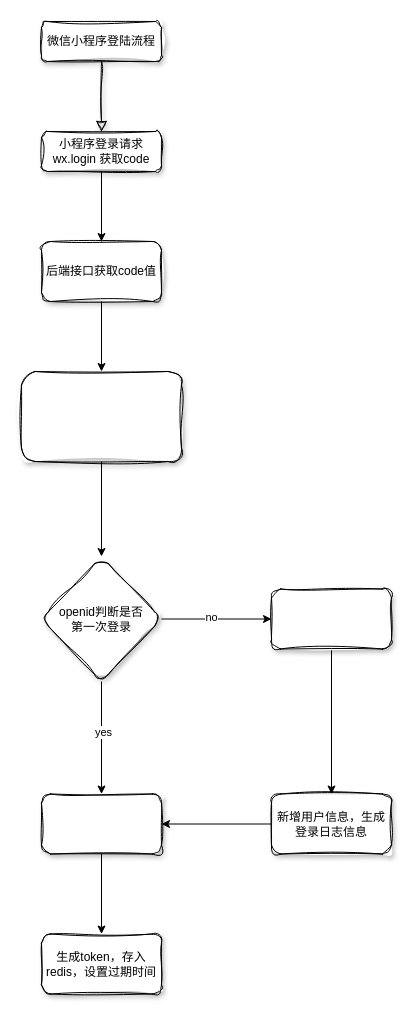
Image size: 415x1019. Some labels were removed from this diagram. The centre of each missing label's shape, as x and y in pixels:
注册: the point at 332,620
登录凭证校验 appid + appsecret +code 返回openid: the point at 102,417
返回用户id: the point at 102,825
